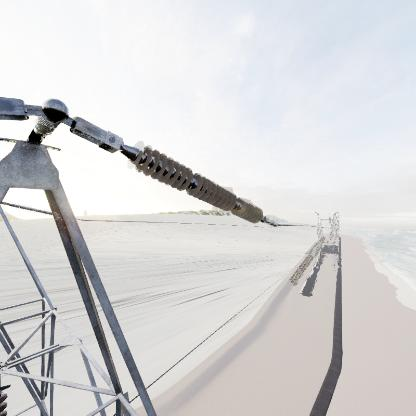insulator: (131, 141, 270, 225)
